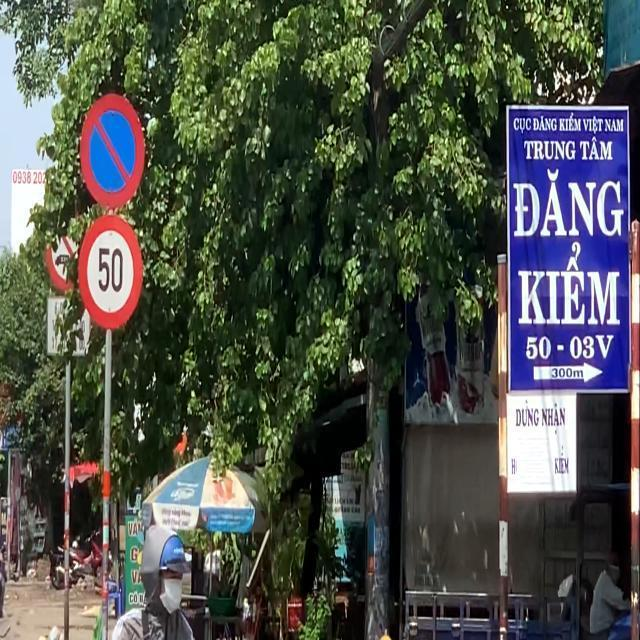127-toc-do-toi-da-50: (75, 215, 145, 332)
131a-cam-do-xe: (79, 96, 145, 210)
